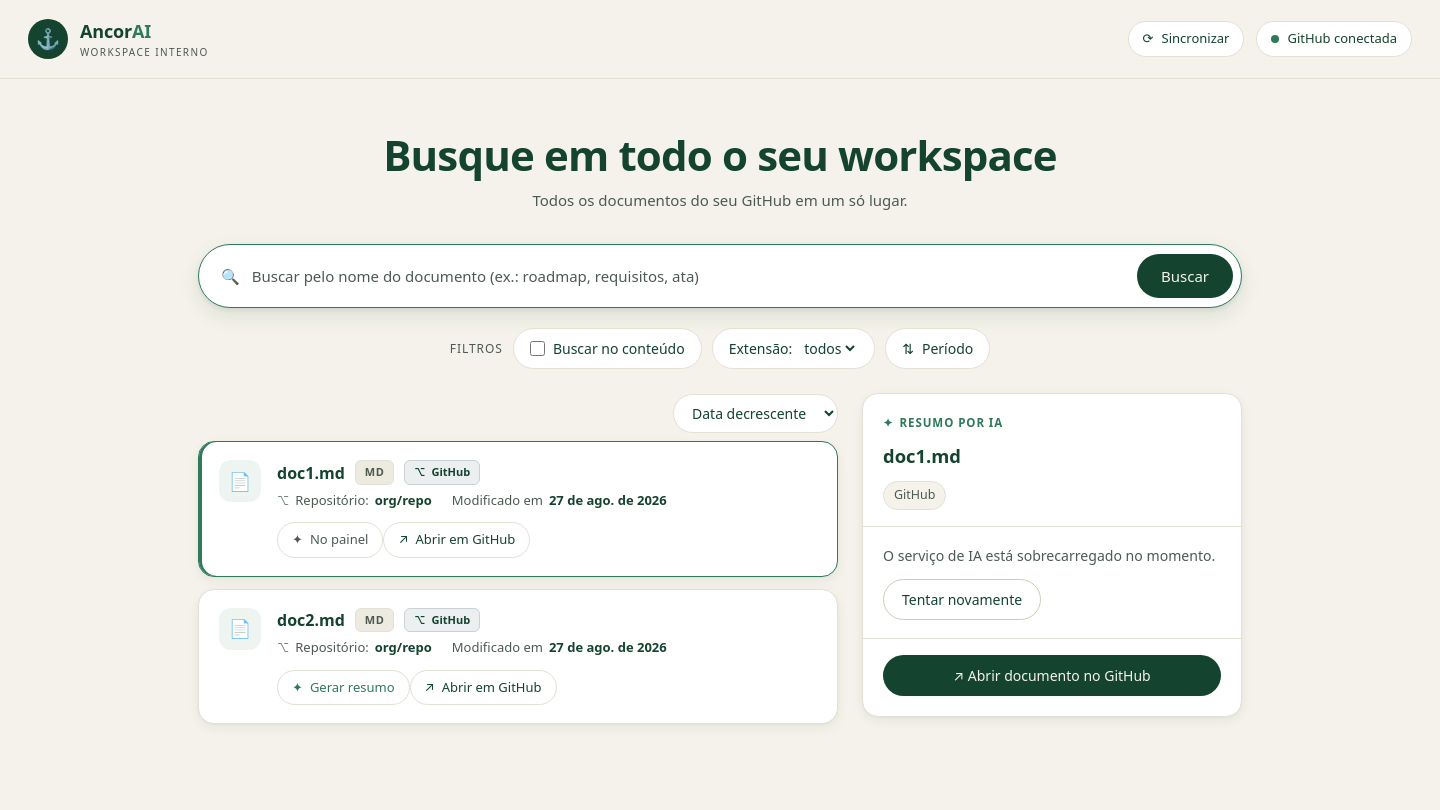
Test: indisponibilidade › oferece nova tentativa quando a falha é passageira, e refaz o pedido
Step 1. Click the button "Tentar novamente" → (962, 600), box [883, 579, 1041, 620]
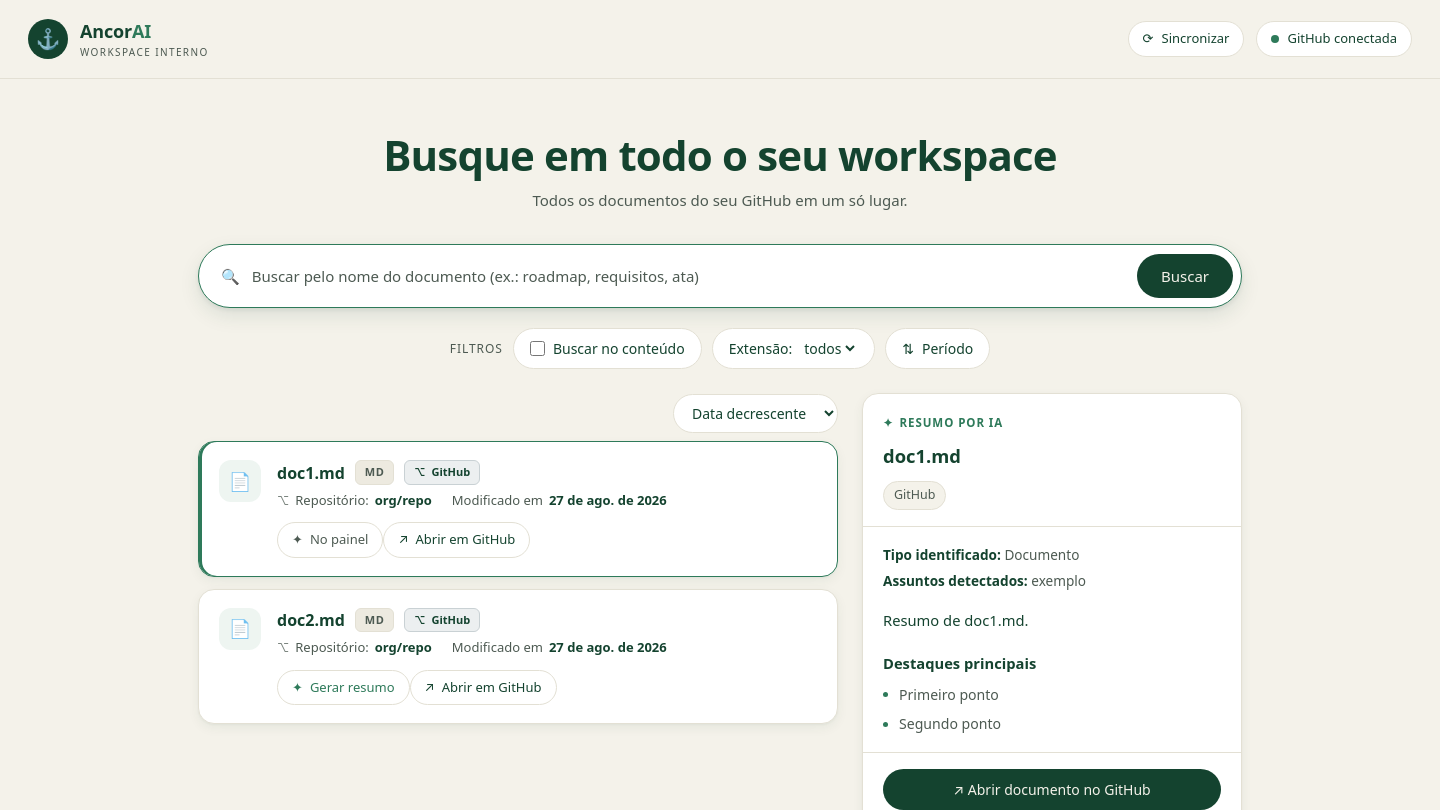
Check: the text "Resumo de doc1.md." is shown, box [883, 610, 1028, 630]
